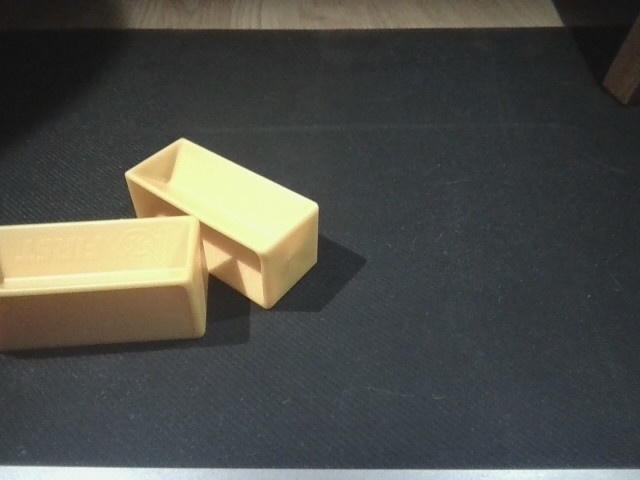YellowSample: (121, 134, 321, 313), (1, 212, 209, 352)
